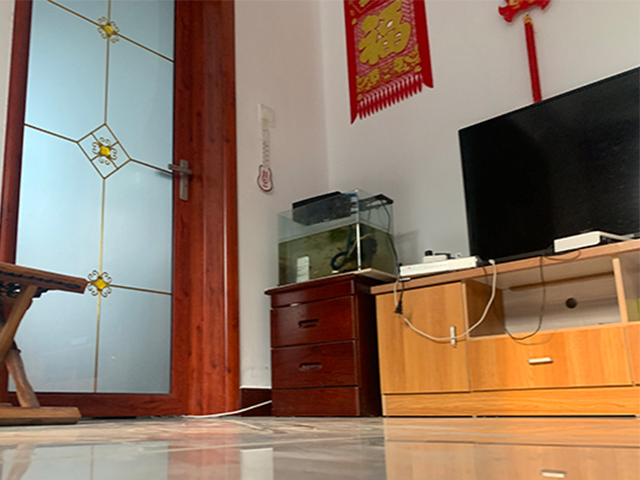cabinet: (370, 239, 640, 419), (265, 272, 382, 418)
stool: (1, 261, 89, 426)
wire: (386, 251, 548, 341), (181, 399, 272, 421)
